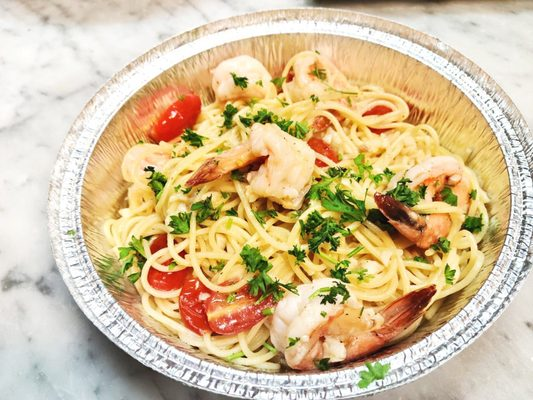curry: (49, 1, 533, 400)
sandwich: (76, 6, 530, 393)
